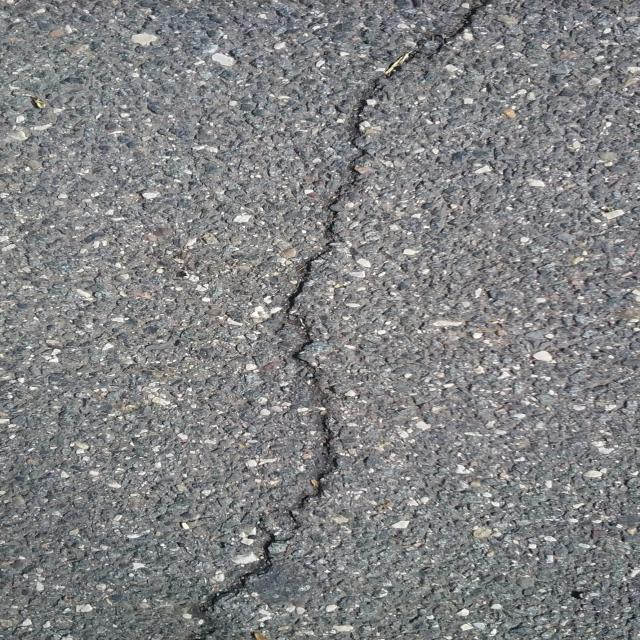Crack: (182, 0, 496, 640)
